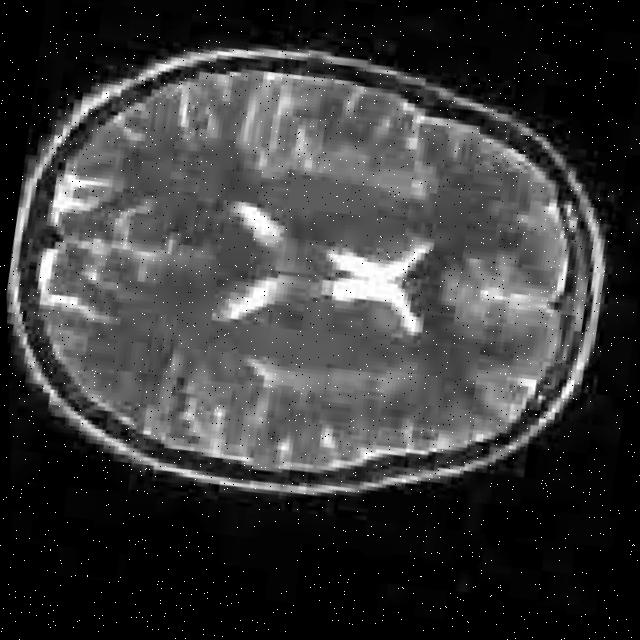NoTumor: (1, 12, 607, 532)
